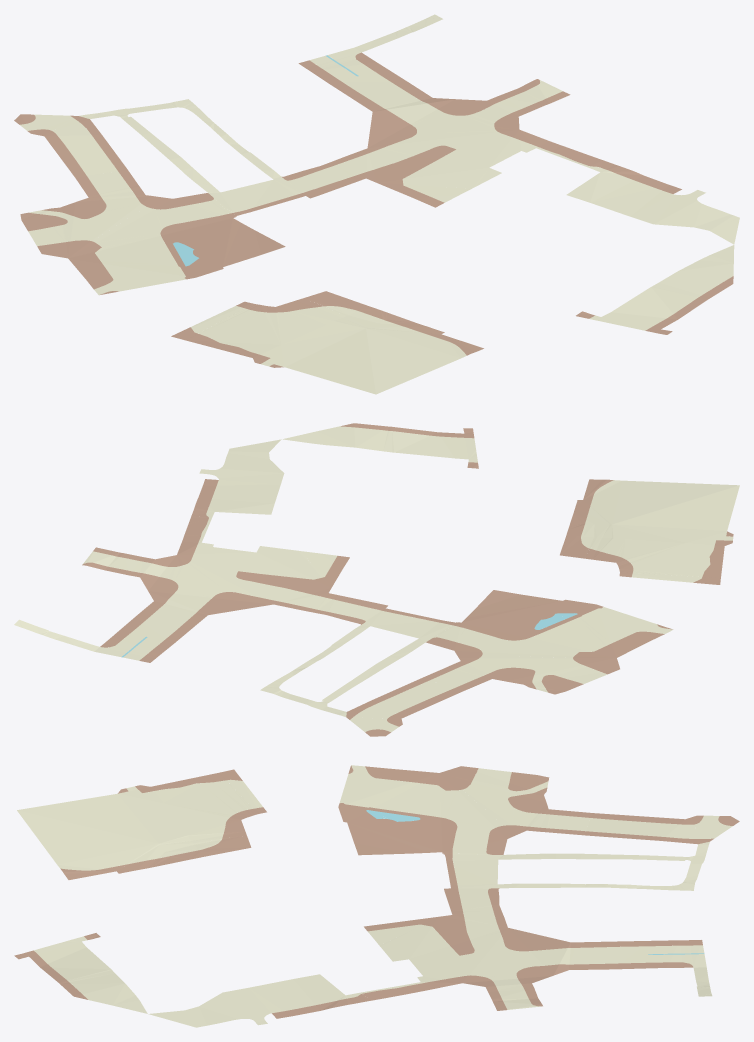
The model's file is data68.glb.
3 renders of one model, top to bottom at view 1: azimuth 30°, elevation 25°; view 2: azimuth 150°, elevation 25°; view 3: azimuth 270°, elevation 25°, orthographic. The views are drawn at different scales.
Bounding box in the file's own units: 286 × 11 × 335.
